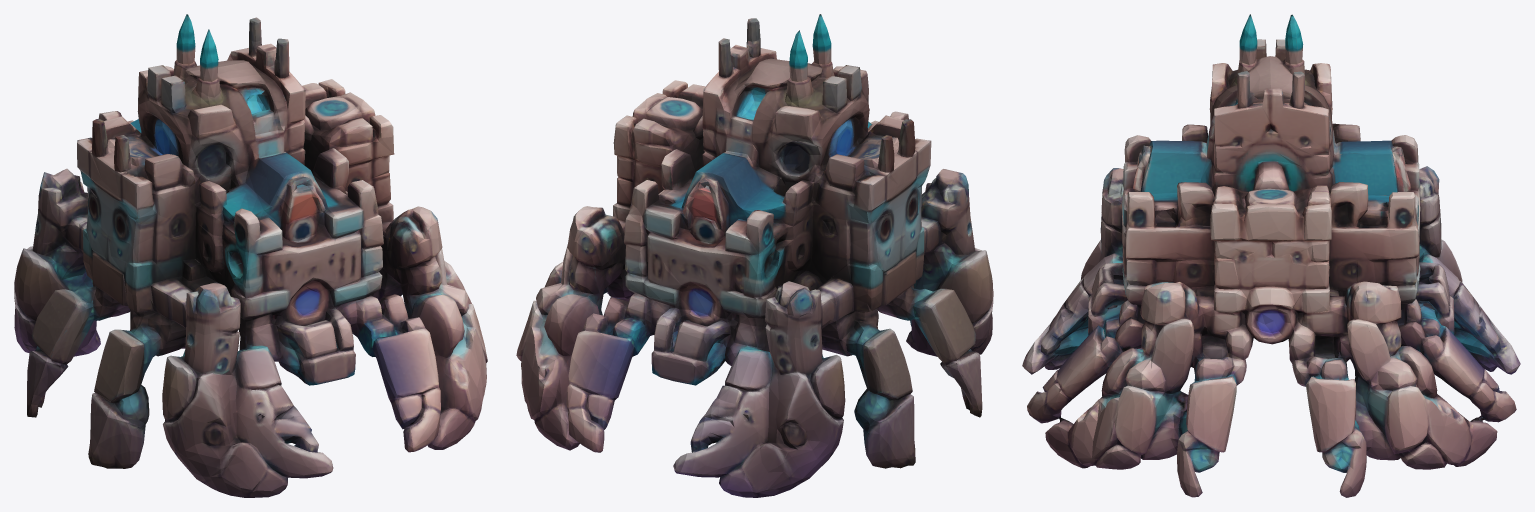
3 renders of one model, left to right at view 1: azimuth 30°, elevation 25°; view 2: azimuth 150°, elevation 25°; view 3: azimuth 270°, elevation 25°, orthographic. The views are drawn at different scales.
Parts seen in each view (by area): view 1: world; view 2: world; view 3: world.
Part boxes in pixels (left/top/right/bottom): world: left=14, top=14, right=487, bottom=497; world: left=516, top=14, right=993, bottom=497; world: left=1022, top=14, right=1520, bottom=497.
Size of the model in its own units: 0.657 by 0.6395 by 0.7624.
Materials: 1 (1 with a texture image).
